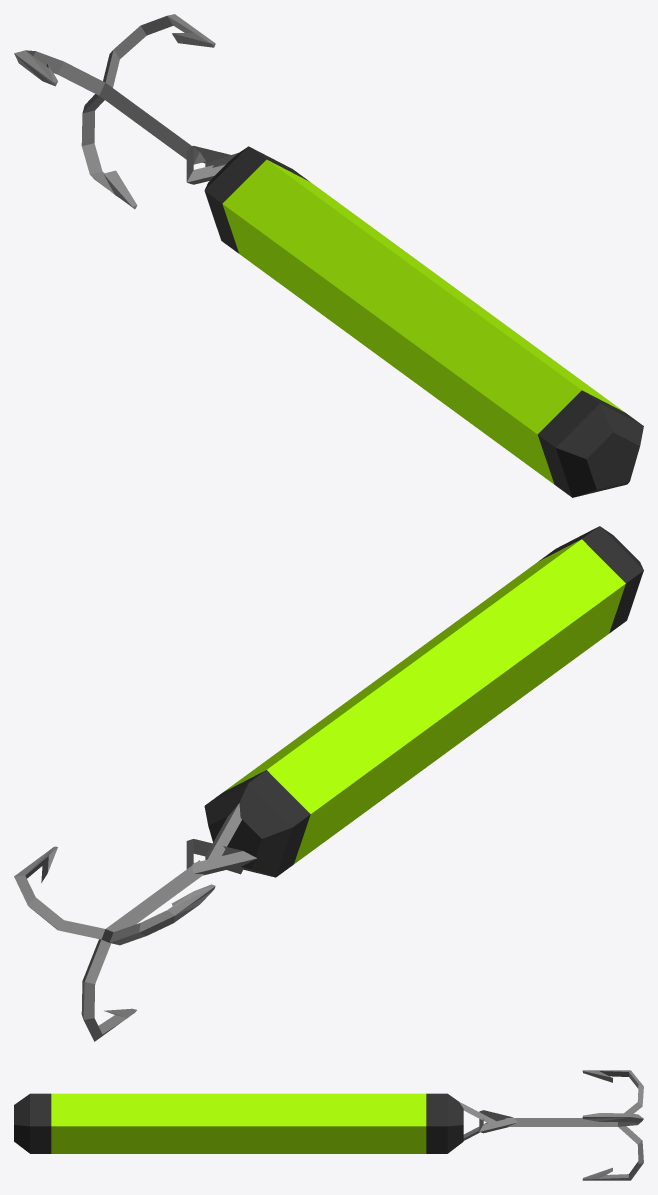
The model's file is Scientific Lure.glb.
The picture shows the model from 3 angles, top to bottom: view 1: azimuth 30°, elevation 25°; view 2: azimuth 150°, elevation 25°; view 3: azimuth 270°, elevation 25°; orthographic projection. The views are drawn at different scales.
Parts seen in each view (by area): view 1: Scientific Lure; view 2: Scientific Lure; view 3: Scientific Lure.
Boxes of the visible parts, box(x1,y1,x2,y2) form: Scientific Lure: box(14, 14, 643, 497); Scientific Lure: box(14, 526, 643, 1041); Scientific Lure: box(14, 1070, 643, 1180).
Size of the model in its own units: 0.0394 by 0.0348 by 0.2241.
1 material, 1 textured.
